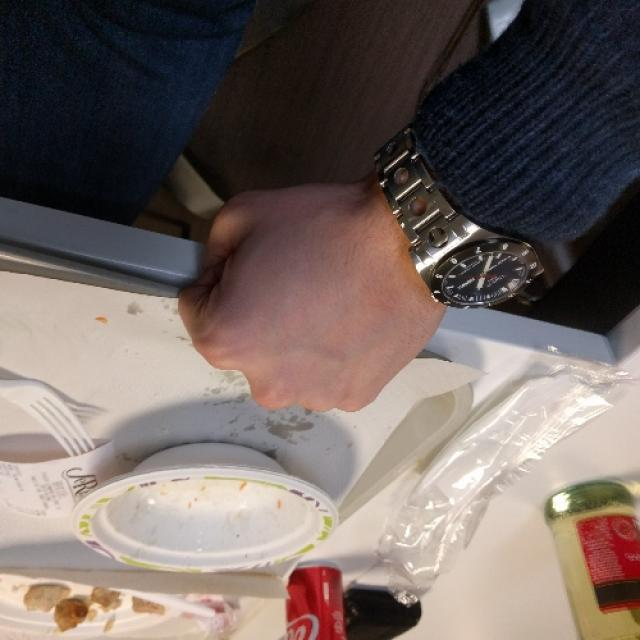rock: (177, 182, 452, 417)
